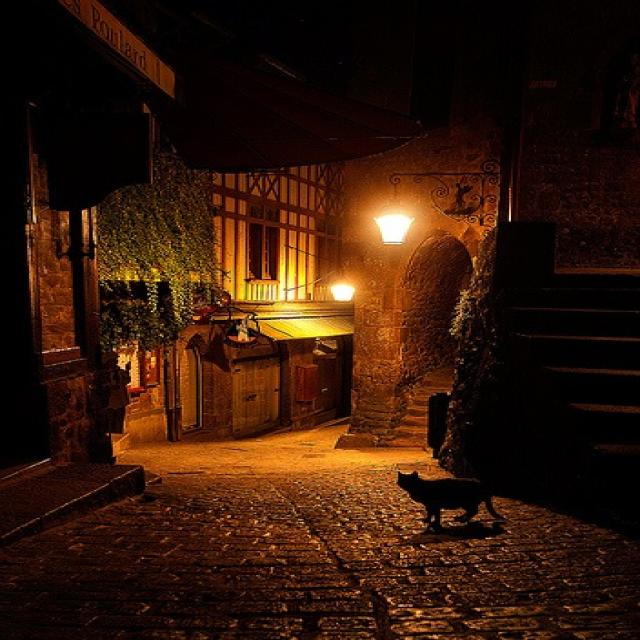Cat: (388, 464, 519, 557)
